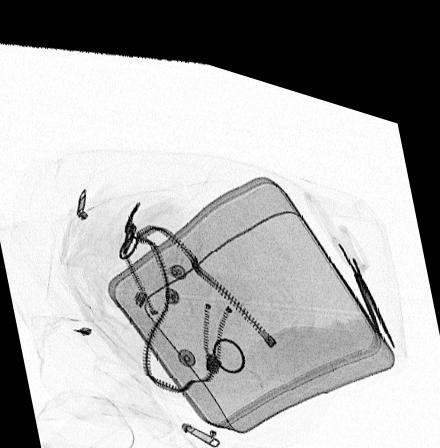Scissors: (300, 167, 395, 326)
